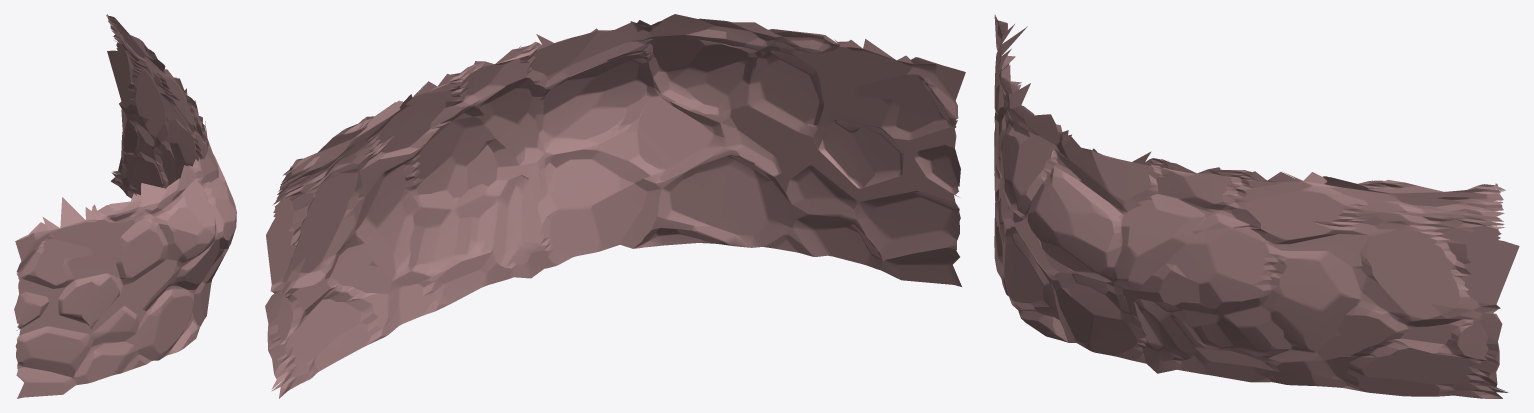
Rendered from plateau.fbx_Rock_Plateau_001LODs.fbx.
The picture shows the model from 3 angles, left to right: view 1: azimuth 30°, elevation 25°; view 2: azimuth 150°, elevation 25°; view 3: azimuth 270°, elevation 25°; orthographic projection. The views are drawn at different scales.
Visible parts, largest first — view 1: Rock Plateau.001_LOD0; view 2: Rock Plateau.001_LOD0; view 3: Rock Plateau.001_LOD0.
Boxes of the visible parts, x1=… form: Rock Plateau.001_LOD0: x1=14, y1=14, x2=236, y2=398; Rock Plateau.001_LOD0: x1=265, y1=14, x2=965, y2=398; Rock Plateau.001_LOD0: x1=994, y1=15, x2=1519, y2=398.
Size of what is drawn, in the model's own units: 4732 by 2700 by 5583.
